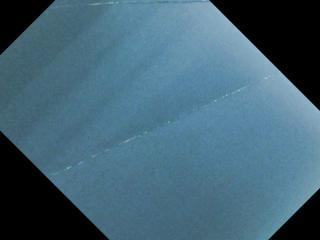crack: (46, 69, 281, 180), (52, 0, 212, 10)
